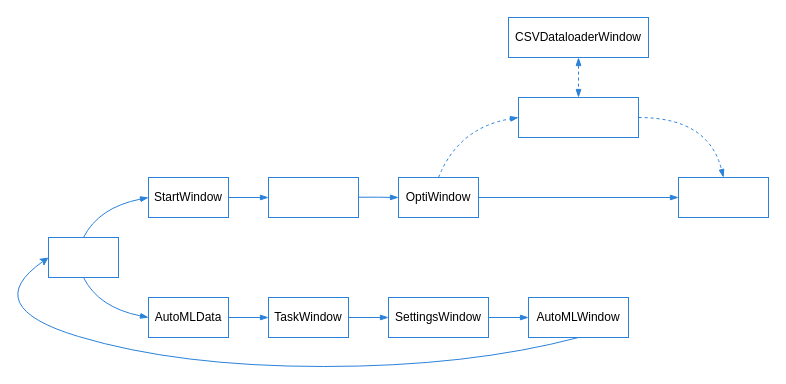
Some shapes in this 786 by 384 pixel diagram are drawn without their labels. Each missing label, with the centre of its shape:
"DataloaderWindow" belongs at [578,117].
"LoadWindow" belongs at [723,197].
"Start" belongs at [83,257].
"TargetWindow" belongs at [313,197].
